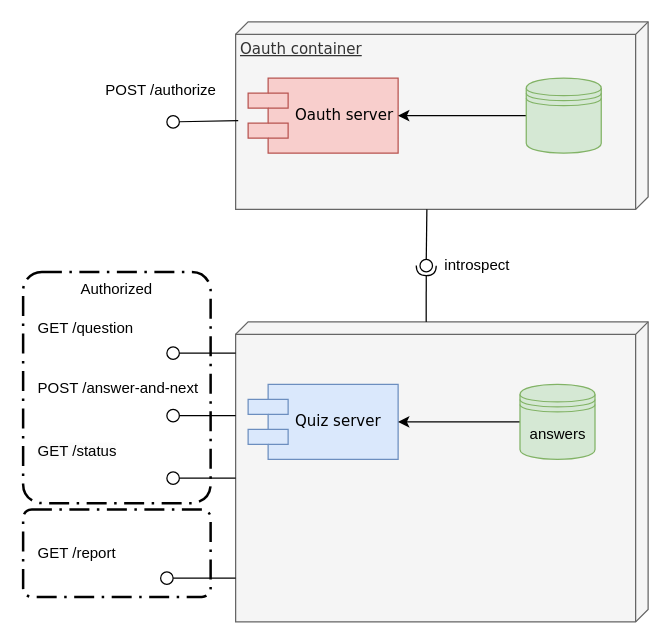
Some shapes in this 670 by 644 pixel diagram are drawn without their labels. The box of each missing label's shape, as (x1, y1, x2, y2) in pixels:
Public: (21, 508, 211, 598)
Quiz container: (234, 321, 648, 622)
users: (525, 77, 601, 153)
